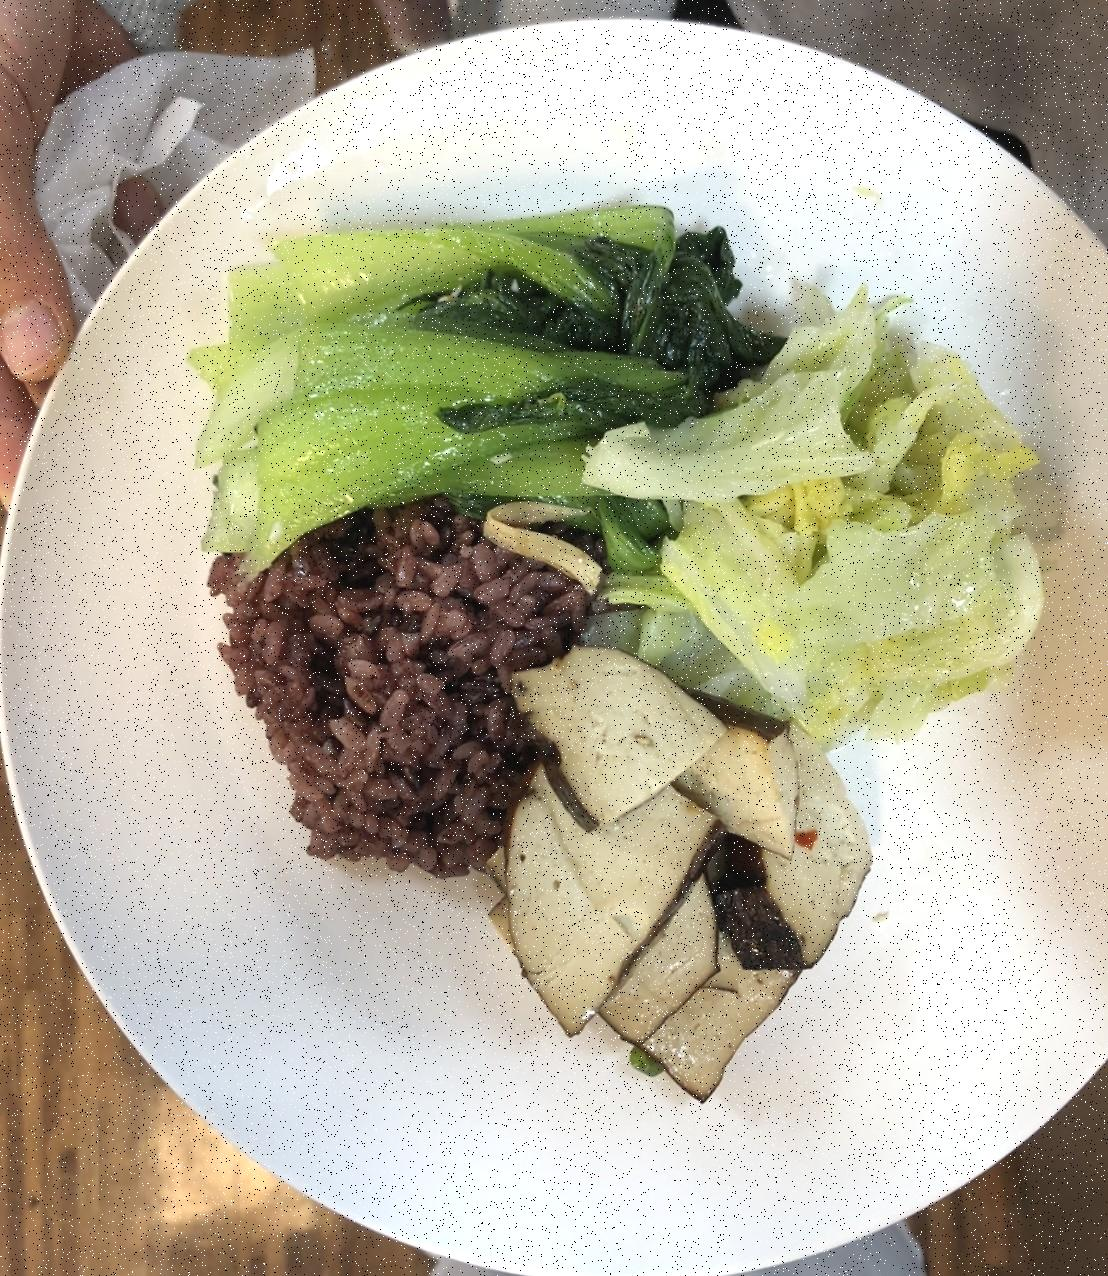big fried chicken leg: (13, 26, 1108, 1276)
braised fish: (206, 473, 595, 882)
braised fish fillet: (200, 174, 746, 582), (598, 278, 1063, 740), (496, 643, 874, 1100)
